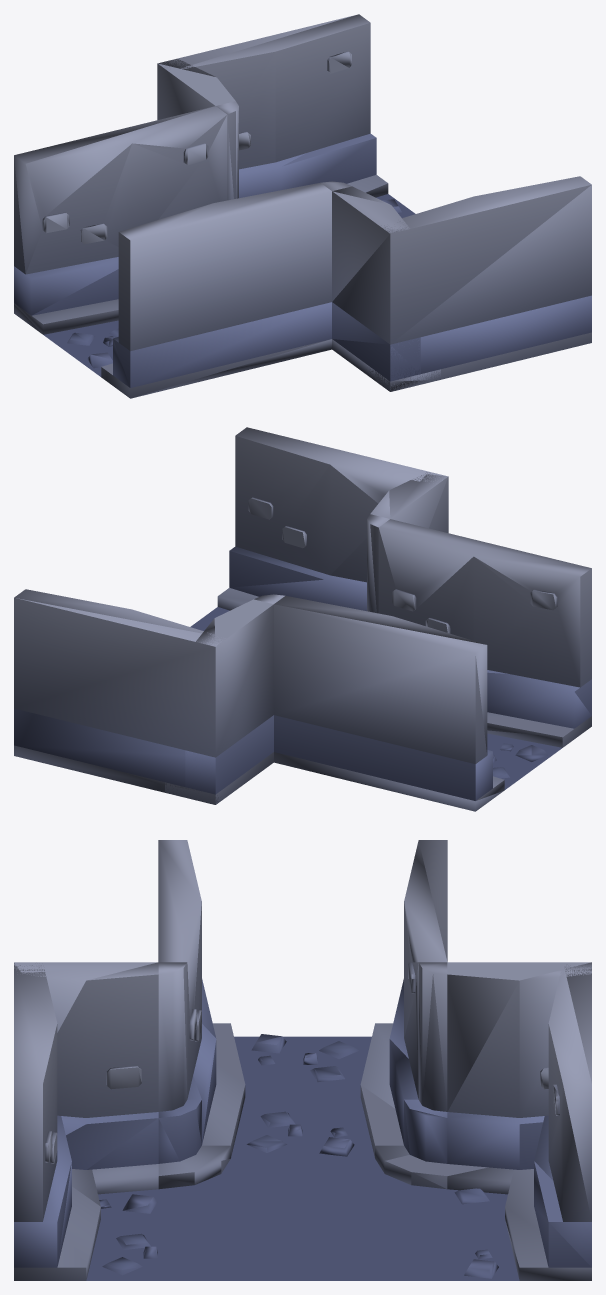
File: corridor-transition_lev2.glb
3 views of the same model, one above another, from view 1: azimuth 30°, elevation 25°; view 2: azimuth 150°, elevation 25°; view 3: azimuth 270°, elevation 25° (orthographic). The views are drawn at different scales.
Parts seen in each view (by area): view 1: corridor-transition_lev2; view 2: corridor-transition_lev2; view 3: corridor-transition_lev2.
Part boxes in pixels (left/top/right/bottom): corridor-transition_lev2: left=14, top=14, right=591, bottom=398; corridor-transition_lev2: left=14, top=427, right=591, bottom=811; corridor-transition_lev2: left=14, top=840, right=591, bottom=1280.
Size of the model in its own units: 8 by 3 by 8.
1 material, 1 textured.
